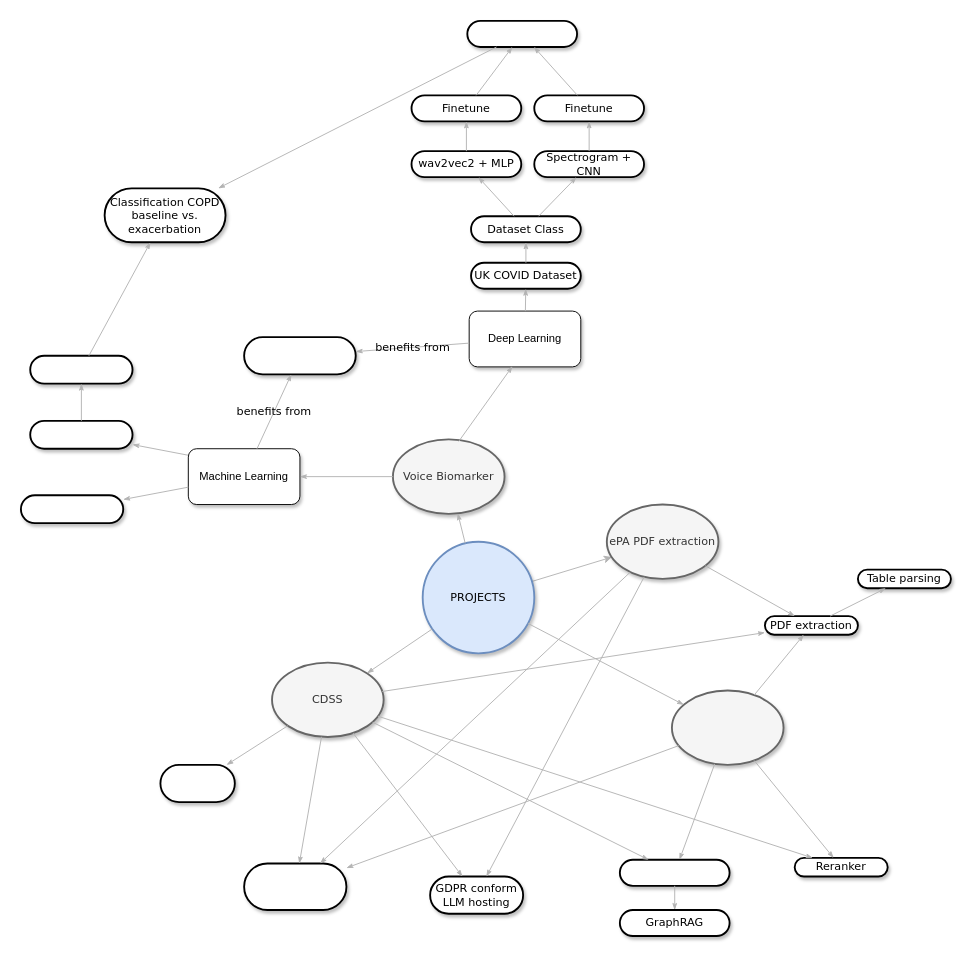
This 973x959 diagram has some shape labels left out. The centre of each missing label's shape, as x and y in pixels:
Benchmark Dataset Generation: (295,887)
Feature Extraction: (82,436)
Feature Selection: (82,371)
Learn XGBoost: (72,510)
Neo4j Graph Database: (675,874)
SAP: (728,728)
Scrape Guidelines: (198,784)
Silence Trimming: (300,356)
Temporal Changes: (522,35)
